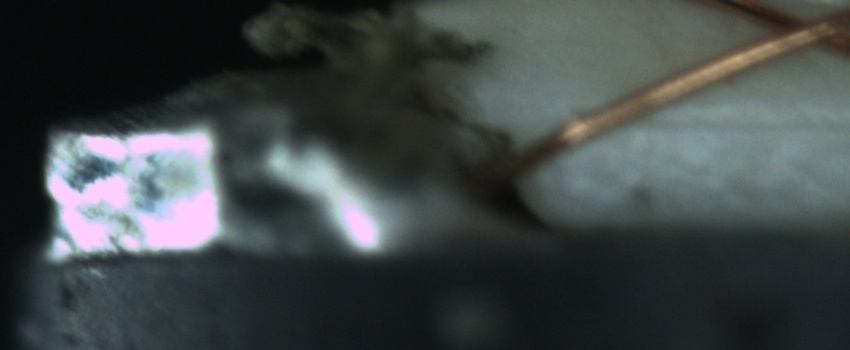CL: (747, 0, 848, 61)
DL: (627, 86, 845, 157)
